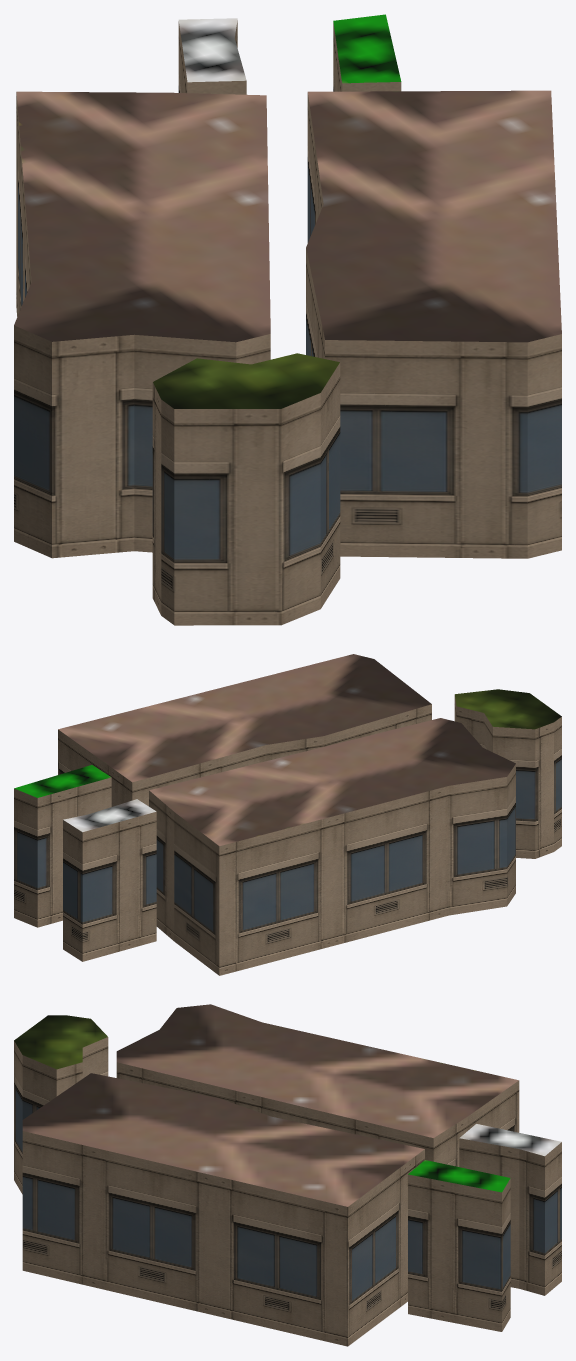
The model's file is light_a.glb.
3 renders of one model, top to bottom at view 1: azimuth 30°, elevation 25°; view 2: azimuth 150°, elevation 25°; view 3: azimuth 270°, elevation 25°, orthographic. The views are drawn at different scales.
Visible parts, largest first — view 1: buildings/saxarba/SMV_Buildings/light_a; view 2: buildings/saxarba/SMV_Buildings/light_a; view 3: buildings/saxarba/SMV_Buildings/light_a.
Part boxes in pixels (x1,y1,x2,y2): buildings/saxarba/SMV_Buildings/light_a: [14, 14, 561, 625]; buildings/saxarba/SMV_Buildings/light_a: [14, 654, 561, 975]; buildings/saxarba/SMV_Buildings/light_a: [14, 1004, 561, 1346].
Size of the model in its own units: 56 by 18 by 64.
